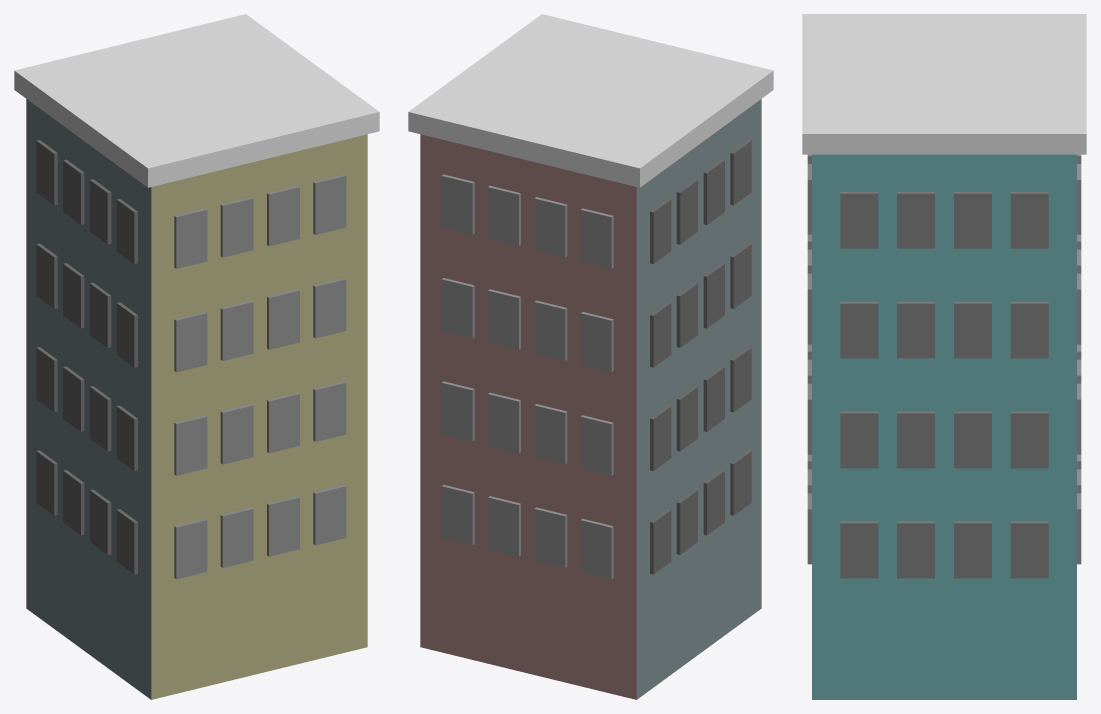
The model's file is Building 3.fbx.
3 views of the same model, side by side, from view 1: azimuth 30°, elevation 25°; view 2: azimuth 150°, elevation 25°; view 3: azimuth 270°, elevation 25° (orthographic). The views are drawn at different scales.
Visible parts, largest first — view 1: Plane.001; view 2: Plane.001; view 3: Plane.001.
Part boxes in pixels (x1,y1,x2,y2): Plane.001: [14, 14, 379, 699]; Plane.001: [408, 14, 773, 699]; Plane.001: [802, 14, 1086, 699].
Bounding box in the file's own units: 375 × 830 × 375.
